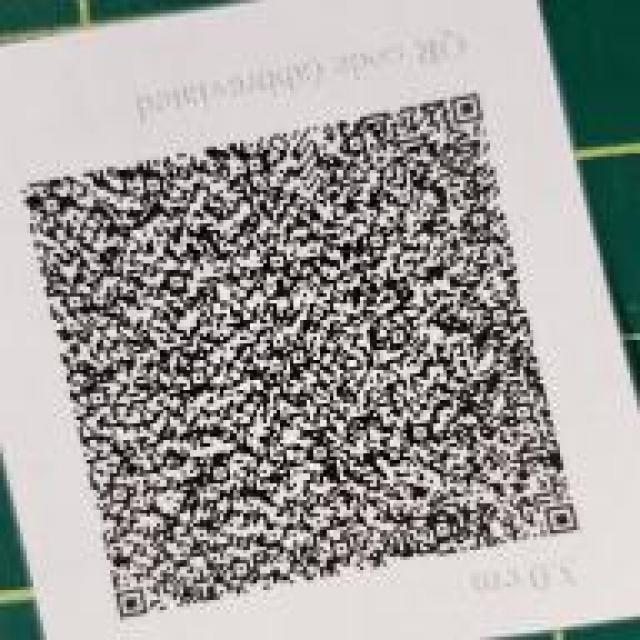QR_CODE: (7, 81, 600, 636)
